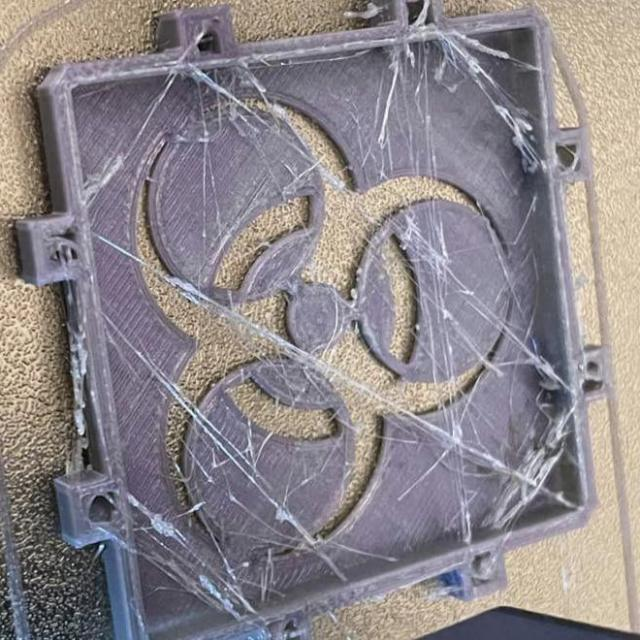stringing: (91, 218, 578, 517), (99, 299, 365, 586), (395, 235, 480, 550), (128, 482, 274, 629), (446, 288, 572, 408), (492, 401, 580, 541), (192, 71, 266, 124), (443, 43, 517, 95), (501, 100, 542, 174)
